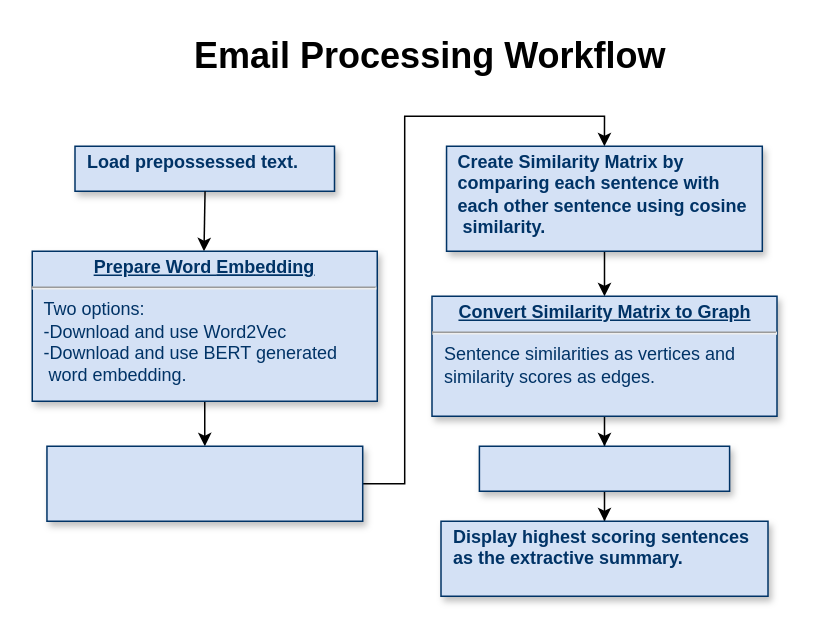
The diagram is 813 pixels wide and 633 high, and some of its shapes have lost their labels. The centre of each missing label's shape, as x and y in pixels:
"Create sentence vectors using the word embedding on the tokenized sentences." goes at (205,485).
"Start PageRank on graph." goes at (605,470).
